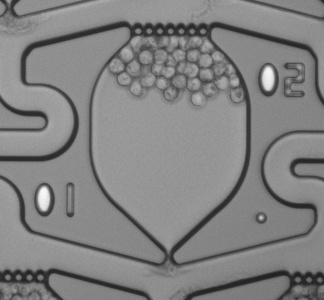AptNum: (252, 57, 311, 103)
Marker: (254, 212, 268, 224)
StNum: (30, 181, 79, 221)
